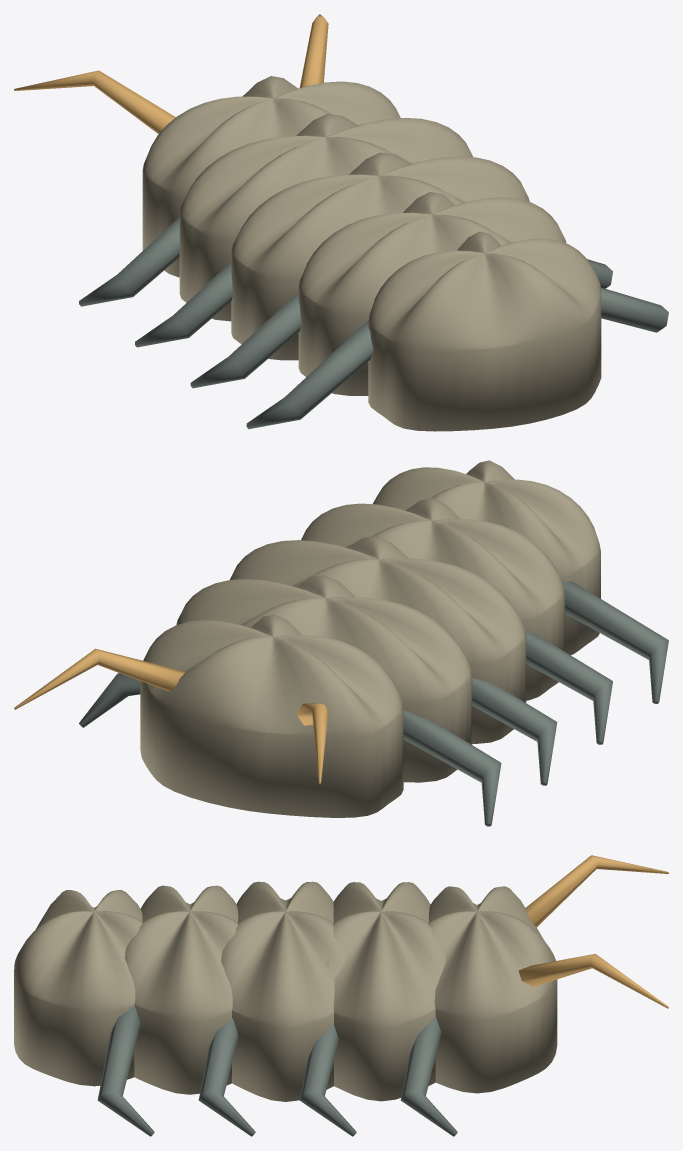
Rendered from shore_crawler.glb.
3 renders of one model, top to bottom at view 1: azimuth 30°, elevation 25°; view 2: azimuth 150°, elevation 25°; view 3: azimuth 270°, elevation 25°, orthographic. The views are drawn at different scales.
Parts seen in each view (by area): view 1: Body_Geometry, Paddle_L_3_Geometry, Paddle_L_2_Geometry, Paddle_L_0_Geometry, Paddle_L_1_Geometry, Paddle_R_3_Geometry; view 2: Body_Geometry, Paddle_L_3_Geometry, Paddle_L_0_Geometry, Paddle_L_2_Geometry, Paddle_L_1_Geometry, Paddle_R_0_Geometry; view 3: Body_Geometry, Paddle_R_3_Geometry, Paddle_R_2_Geometry, Paddle_R_0_Geometry, Paddle_R_1_Geometry.
Boxes of the visible parts, box(x1,y1,x2,y2) form: Body_Geometry: box(14, 14, 601, 431); Paddle_L_3_Geometry: box(246, 320, 373, 428); Paddle_L_2_Geometry: box(190, 292, 301, 388); Paddle_L_0_Geometry: box(79, 217, 180, 306); Paddle_L_1_Geometry: box(135, 262, 232, 347); Paddle_R_3_Geometry: box(601, 287, 668, 332); Body_Geometry: box(14, 460, 600, 817); Paddle_L_3_Geometry: box(561, 581, 668, 703); Paddle_L_0_Geometry: box(403, 710, 501, 826); Paddle_L_2_Geometry: box(526, 632, 612, 744); Paddle_L_1_Geometry: box(472, 678, 557, 785); Paddle_R_0_Geometry: box(79, 673, 140, 727); Body_Geometry: box(14, 855, 668, 1101); Paddle_R_3_Geometry: box(97, 1005, 154, 1136); Paddle_R_2_Geometry: box(198, 1018, 255, 1136); Paddle_R_0_Geometry: box(400, 1016, 457, 1136); Paddle_R_1_Geometry: box(299, 1024, 356, 1136).
Size of the model in its own units: 0.4055 by 0.1464 by 0.616.
